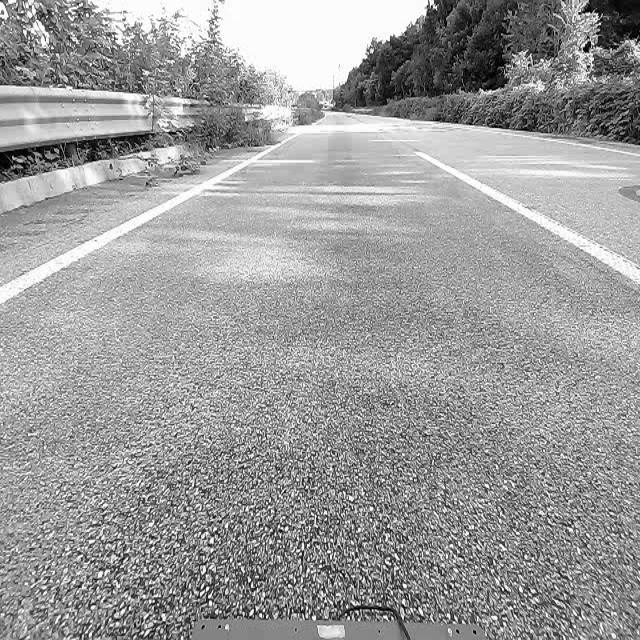Lane: (3, 137, 285, 310), (0, 140, 287, 305), (413, 147, 640, 295), (416, 152, 639, 288)
